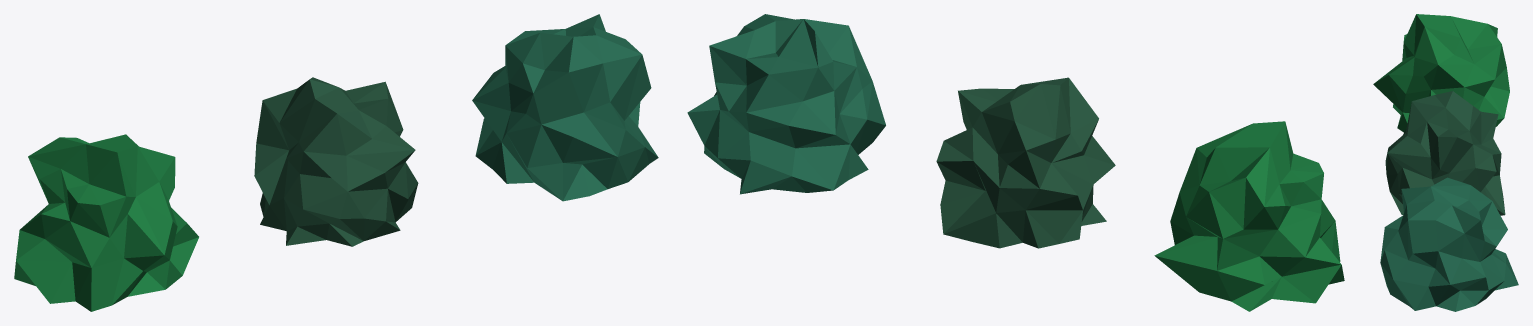
The model's file is bushes.fbx.
3 renders of one model, left to right at view 1: azimuth 30°, elevation 25°; view 2: azimuth 150°, elevation 25°; view 3: azimuth 270°, elevation 25°, orthographic. The views are drawn at different scales.
Visible parts, largest first — view 1: bush3, bush1, bush2; view 2: bush3, bush1, bush2; view 3: bush3, bush1, bush2.
Boxes of the visible parts, bbox=[...] form: bush3: bbox=[472, 14, 658, 201]; bush1: bbox=[14, 134, 198, 311]; bush2: bbox=[254, 77, 418, 246]; bush3: bbox=[687, 14, 885, 194]; bush1: bbox=[1154, 121, 1344, 311]; bush2: bbox=[936, 77, 1115, 248]; bush3: bbox=[1380, 177, 1518, 311]; bush1: bbox=[1373, 14, 1509, 132]; bush2: bbox=[1385, 91, 1505, 215].
Bounding box in the file's own units: 5.47 × 1.19 × 1.49.
